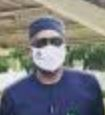with_facemask: (32, 46, 71, 73)
